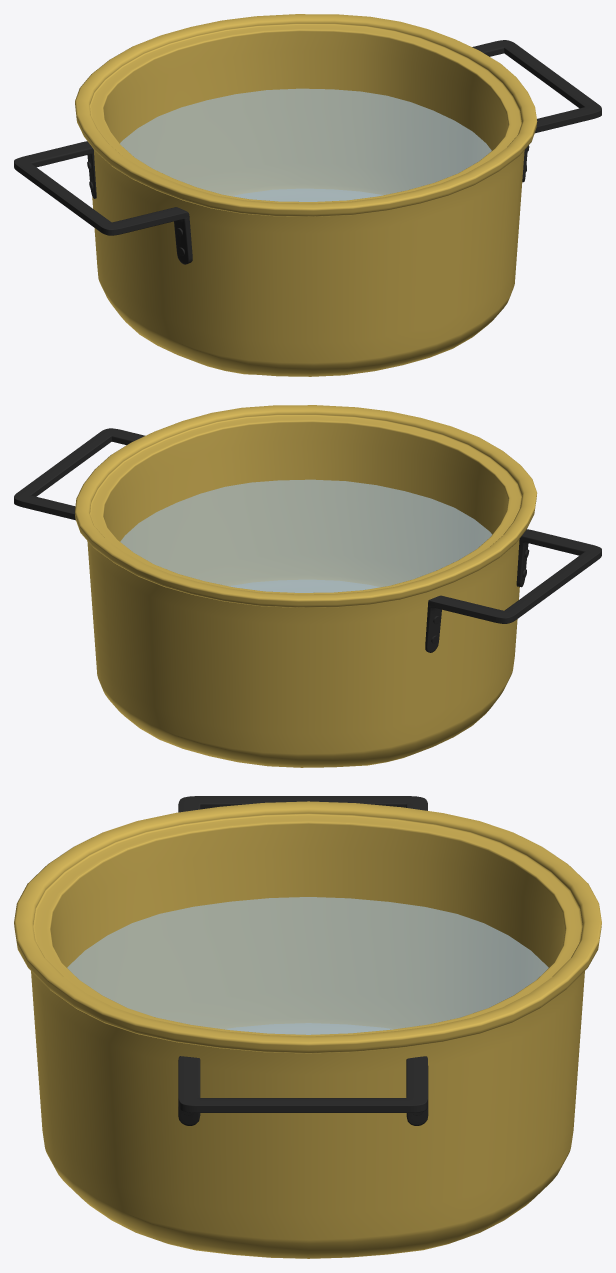
The model's file is pot_water.fbx.
The picture shows the model from 3 angles, top to bottom: view 1: azimuth 30°, elevation 25°; view 2: azimuth 150°, elevation 25°; view 3: azimuth 270°, elevation 25°; orthographic projection. The views are drawn at different scales.
Visible parts, largest first — view 1: pot, water; view 2: pot, water; view 3: pot, water.
Boxes of the visible parts, bbox=[...] form: pot: bbox=[14, 14, 601, 376]; water: bbox=[120, 88, 491, 201]; pot: bbox=[14, 405, 601, 767]; water: bbox=[120, 479, 492, 592]; pot: bbox=[14, 796, 601, 1258]; water: bbox=[67, 897, 548, 1034].
Size of the model in its own units: 0.0119 by 0.00437 by 0.00958.
